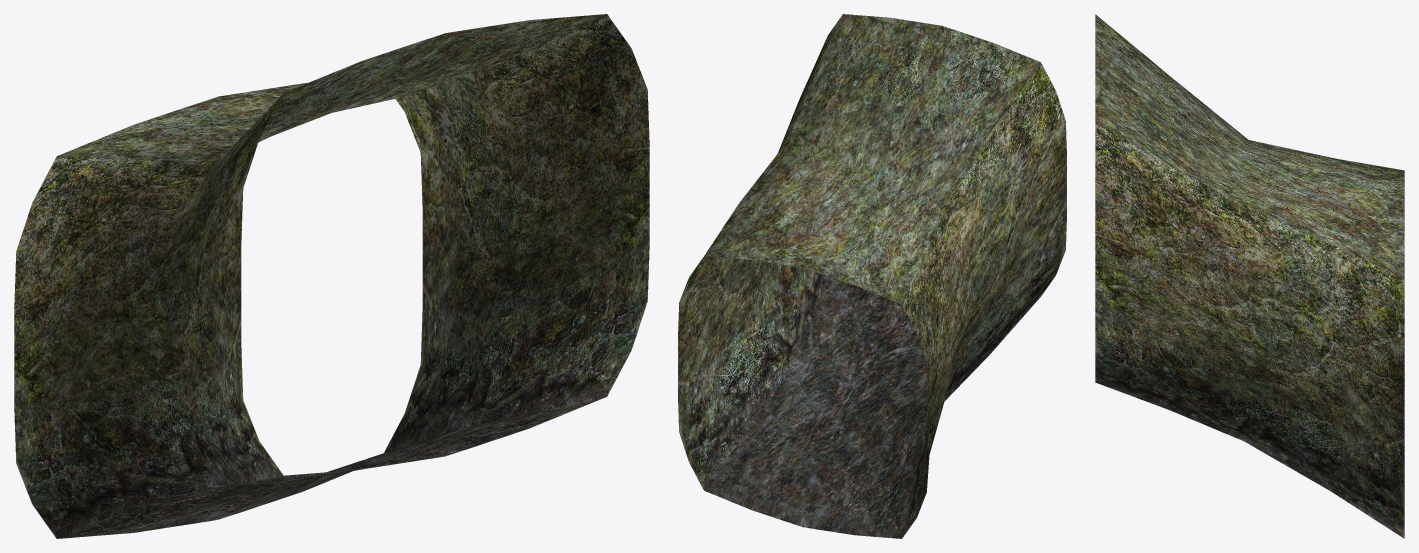
The model's file is thm_all_cave_s03_damprock_mirror_r13_r13.fbx.
The picture shows the model from 3 angles, left to right: view 1: azimuth 30°, elevation 25°; view 2: azimuth 150°, elevation 25°; view 3: azimuth 270°, elevation 25°; orthographic projection. The views are drawn at different scales.
Parts seen in each view (by area): view 1: mesh_node; view 2: mesh_node; view 3: mesh_node.
Part boxes in pixels (<box>): mesh_node: <box>14,14,649,538</box>; mesh_node: <box>678,14,1066,538</box>; mesh_node: <box>1095,14,1404,538</box>.
Size of the model in its own units: 8 by 12.23 by 7.71.
